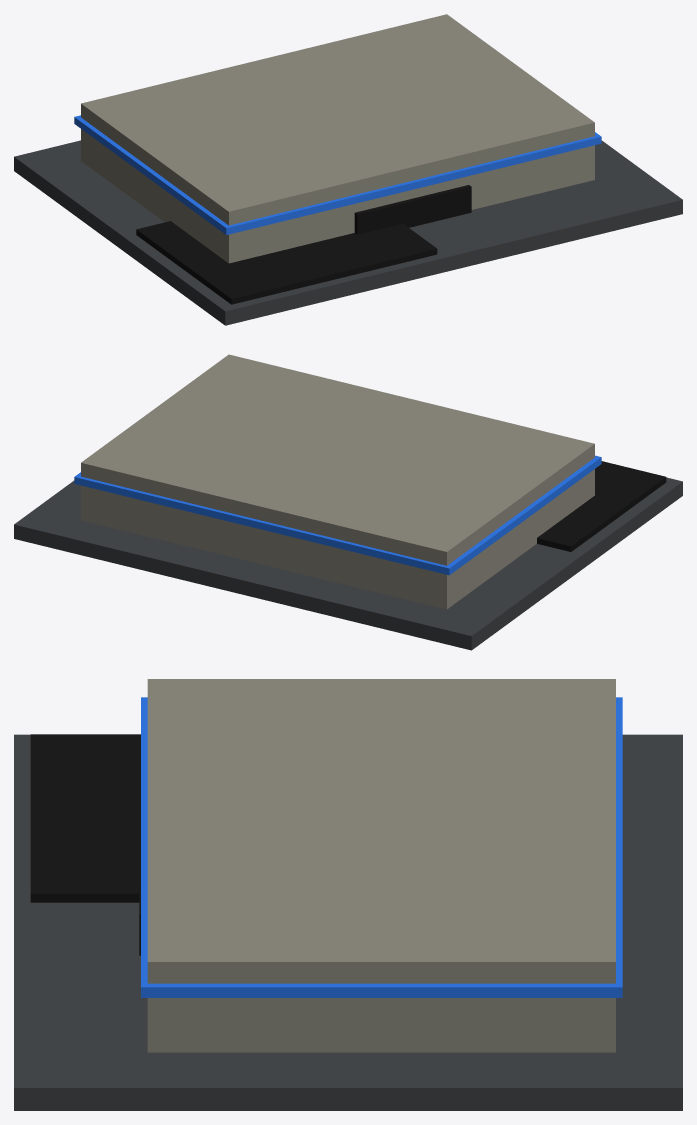
File: solar_farm.glb
The picture shows the model from 3 angles, top to bottom: view 1: azimuth 30°, elevation 25°; view 2: azimuth 150°, elevation 25°; view 3: azimuth 270°, elevation 25°; orthographic projection. The views are drawn at different scales.
Parts seen in each view (by area): view 1: main, base, pad, team_band, door; view 2: main, base, team_band, pad; view 3: main, base, pad, team_band.
Boxes of the visible parts, x1=… form: main: x1=81, y1=14, x2=594, y2=263; base: x1=14, y1=140, x2=682, y2=325; pad: x1=136, y1=221, x2=437, y2=304; team_band: x1=74, y1=115, x2=601, y2=234; door: x1=354, y1=185, x2=471, y2=234; main: x1=81, y1=354, x2=594, y2=609; base: x1=14, y1=477, x2=682, y2=650; team_band: x1=74, y1=455, x2=601, y2=575; pad: x1=537, y1=461, x2=666, y2=551; main: x1=147, y1=679, x2=615, y2=1052; base: x1=14, y1=734, x2=682, y2=1110; pad: x1=30, y1=734, x2=140, y2=902; team_band: x1=141, y1=697, x2=622, y2=997.
Size of the model in its own units: 10 by 1.5 by 8.
